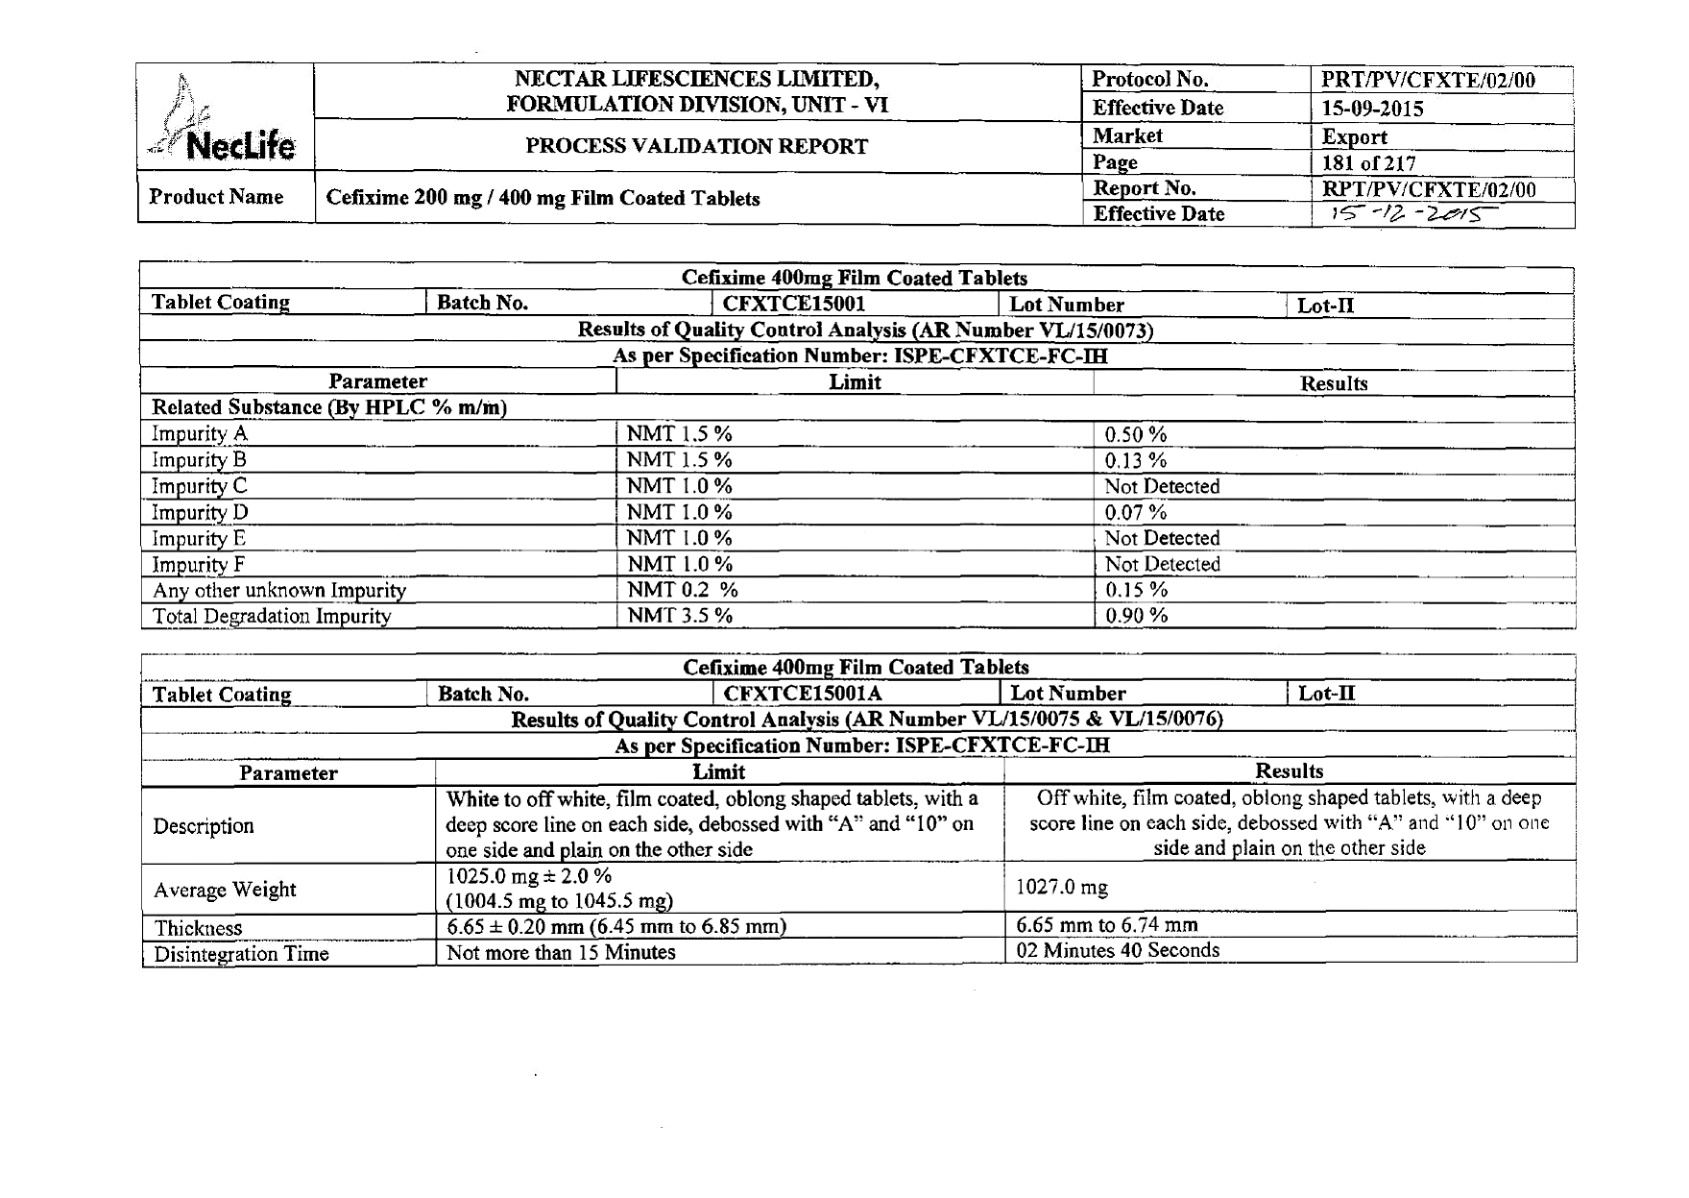merged_cells: (137, 259, 1578, 631), (139, 651, 1580, 970), (135, 60, 1578, 229)
